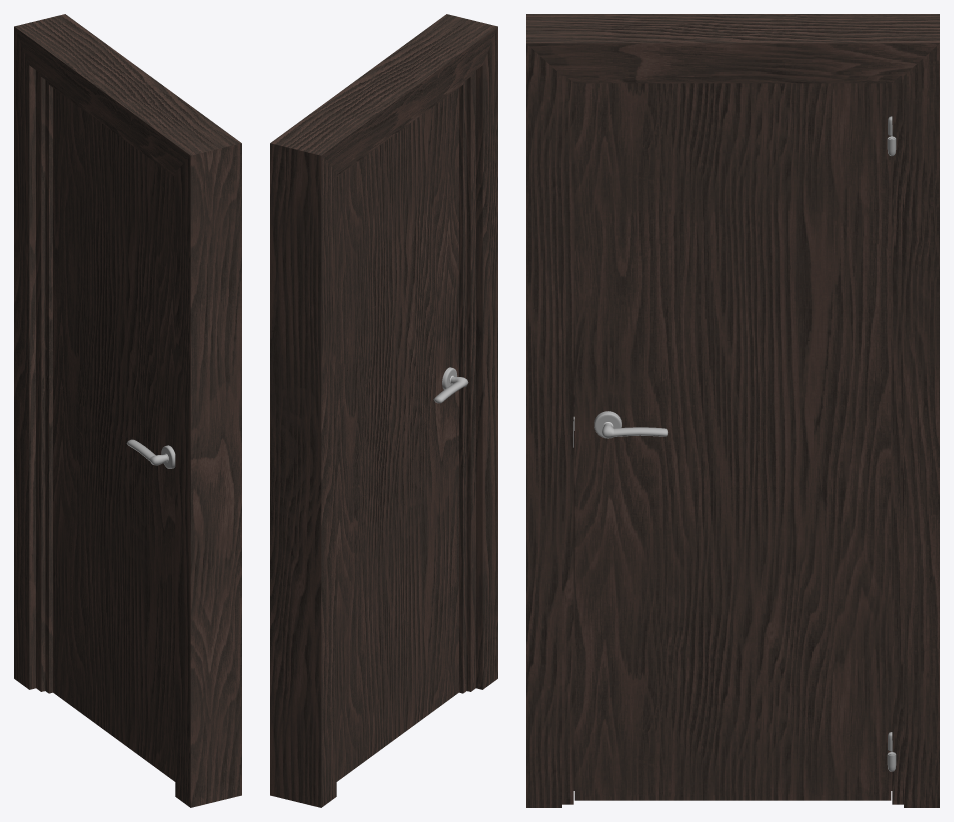
3 renders of one model, left to right at view 1: azimuth 30°, elevation 25°; view 2: azimuth 150°, elevation 25°; view 3: azimuth 270°, elevation 25°, orthographic. The views are drawn at different scales.
Parts seen in each view (by area): view 1: D1-Frame, D1-Door; view 2: D1-Frame, D1-Door; view 3: D1-Door, D1-Frame.
Boxes of the visible parts, <box> form: D1-Frame: <box>14,14,241,807</box>; D1-Door: <box>53,88,175,781</box>; D1-Frame: <box>270,14,497,807</box>; D1-Door: <box>336,88,468,781</box>; D1-Door: <box>573,83,892,800</box>; D1-Frame: <box>526,14,939,807</box>.
Size of the model in its own units: 0.2137 by 2.09 by 1.03.
1 material, 1 textured.
